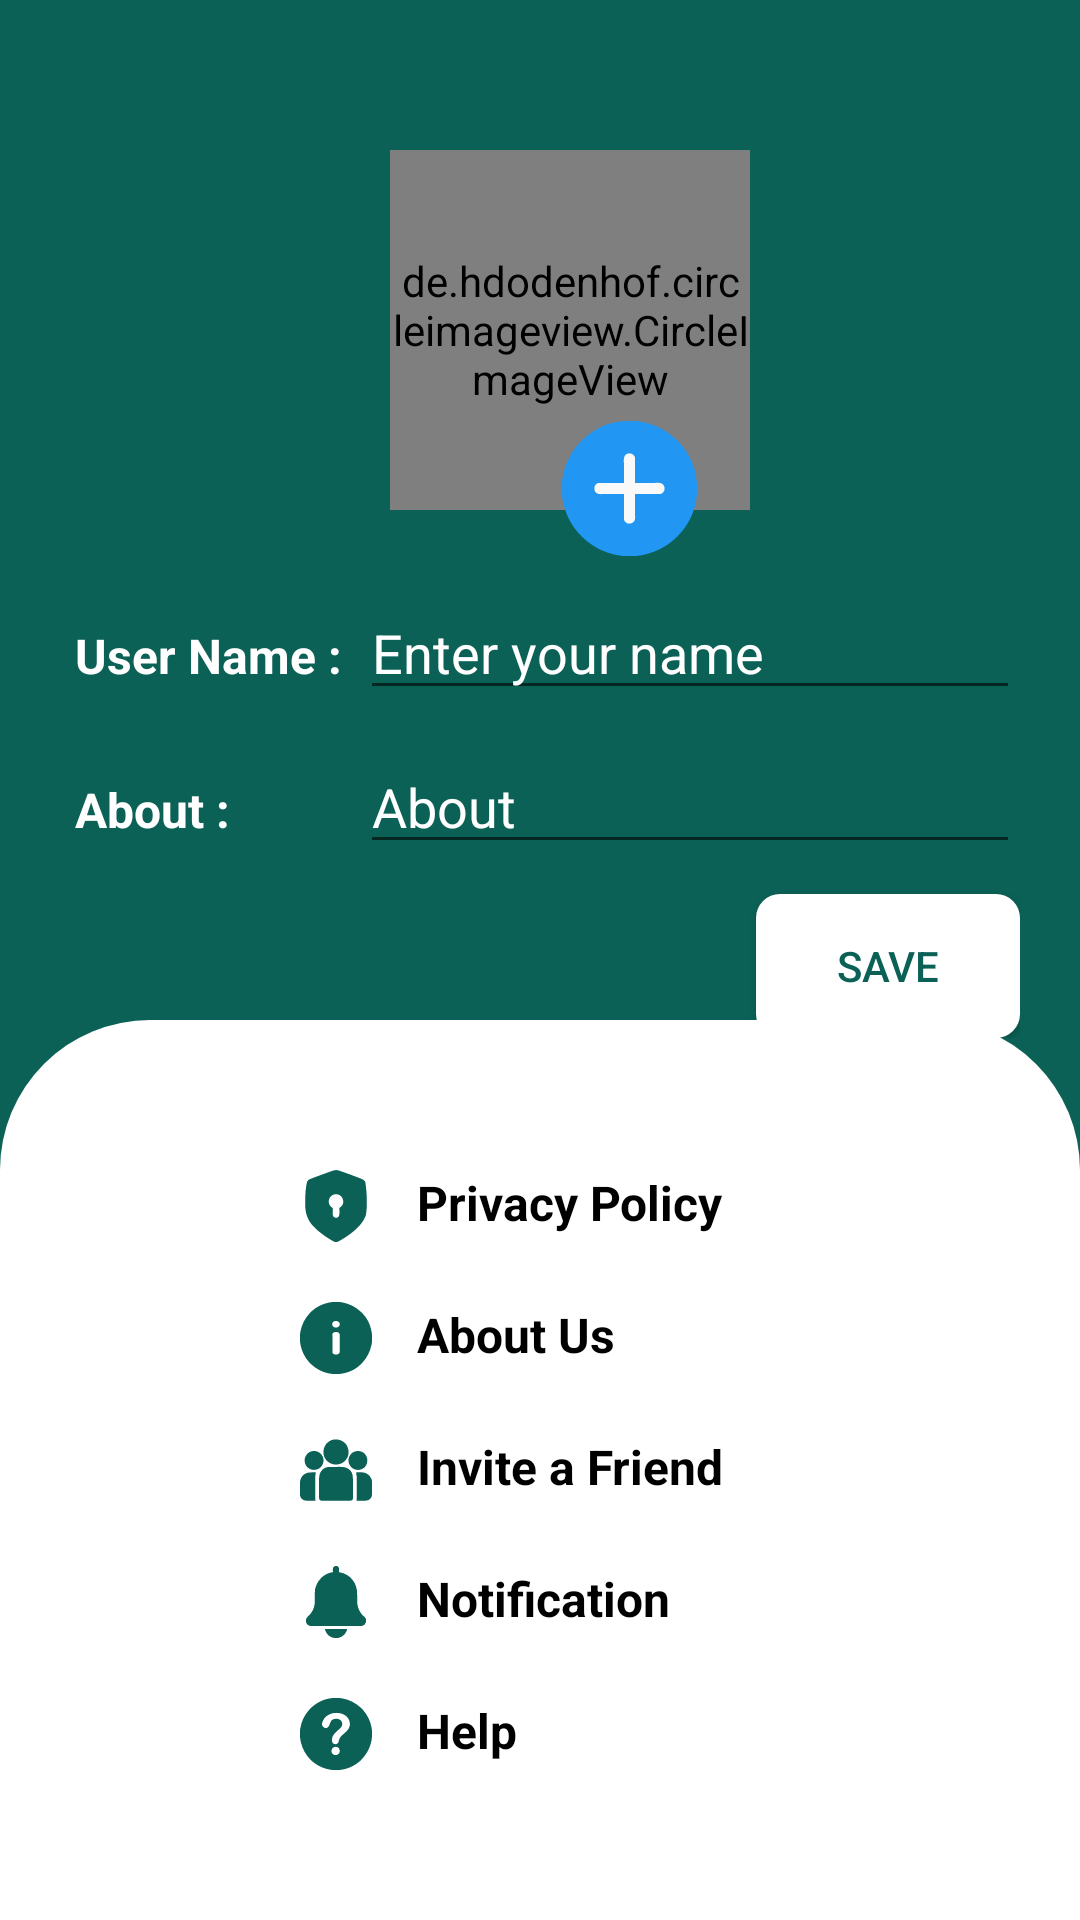

Icon click points for this 1080x1920 phone screenshot, format (x=x, y=y):
plus: (x=629, y=488)
